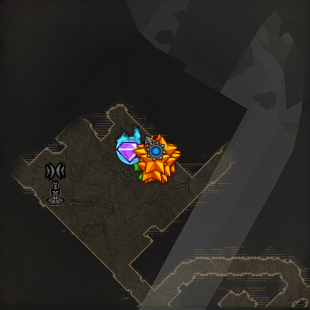Urushi: (115, 126, 141, 166)
